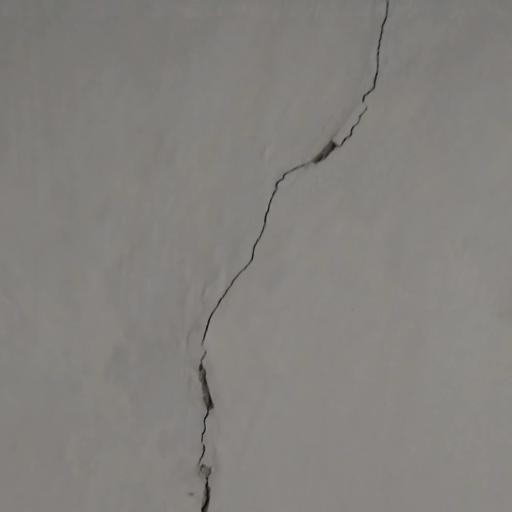major_crack: (185, 0, 401, 512)
